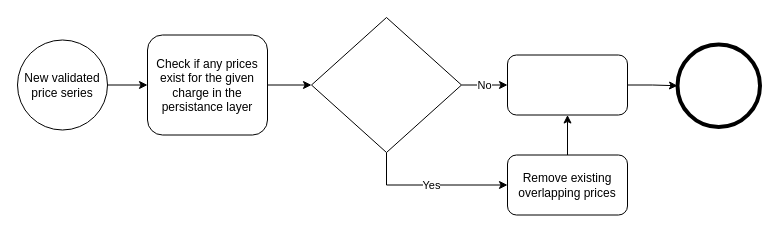
Image size: 779x233. Some labels were removed from this diagram. Here are the shapes that lost their labels. From the top down, the centre of each, then its label:
[386,84]: One or more prices exist that overlap with the new price series
[567,84]: Persist new price series
